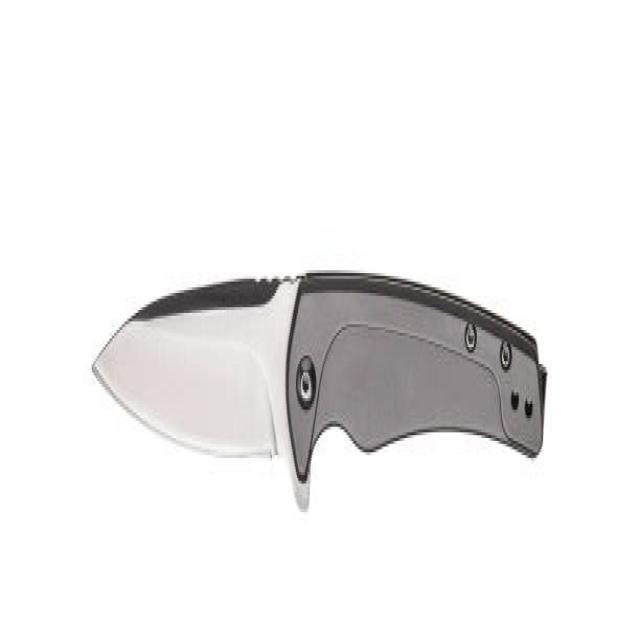knife: (88, 256, 557, 515)
